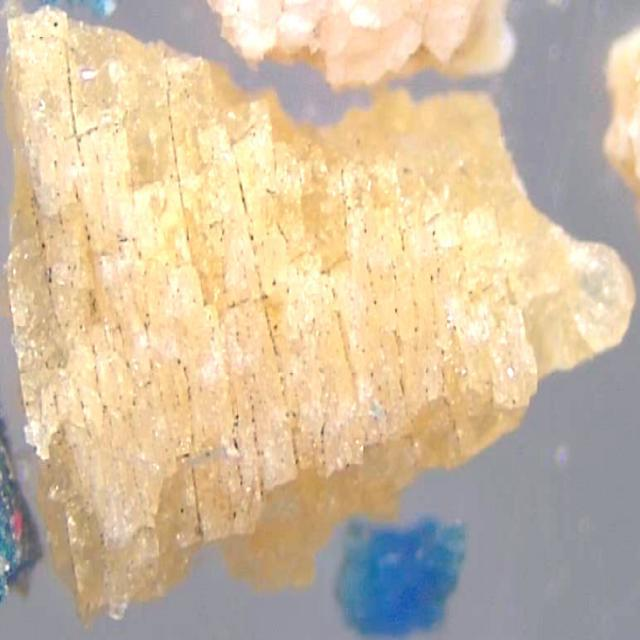fragments: (4, 3, 639, 630), (207, 0, 509, 89), (341, 524, 469, 640), (602, 28, 640, 191)
